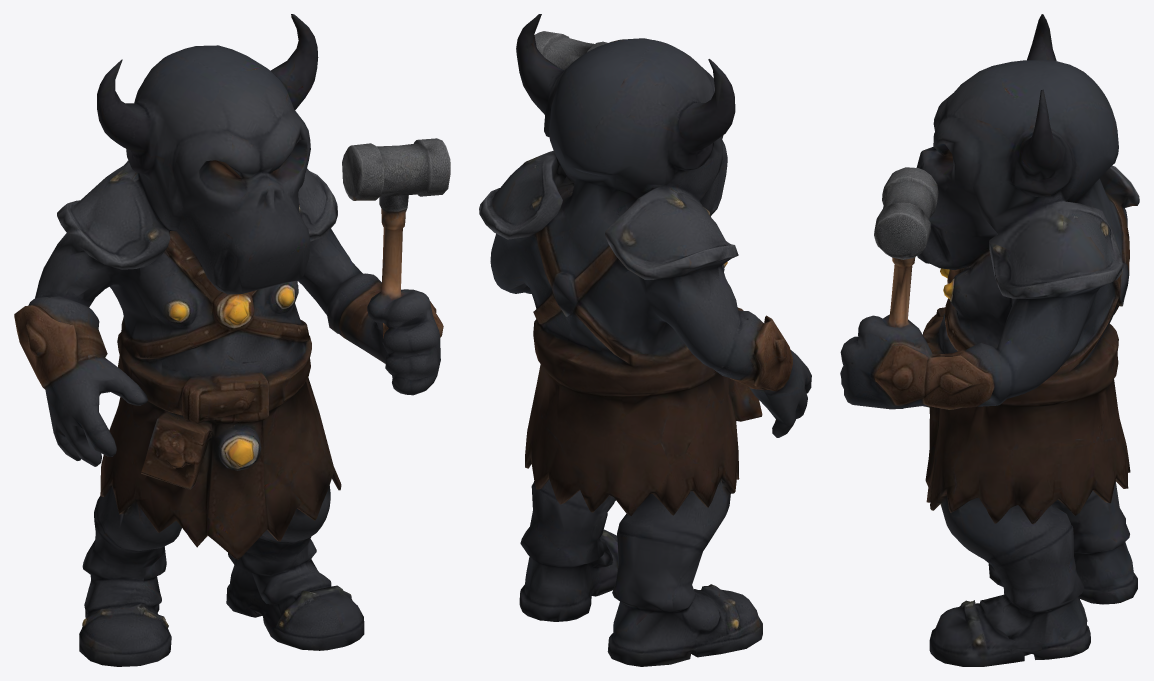
Rendered from gen_smelter.glb.
The picture shows the model from 3 angles, left to right: view 1: azimuth 30°, elevation 25°; view 2: azimuth 150°, elevation 25°; view 3: azimuth 270°, elevation 25°; orthographic projection. The views are drawn at different scales.
Parts seen in each view (by area): view 1: Model; view 2: Model; view 3: Model.
Part boxes in pixels (x1=…): Model: x1=14, y1=14, x2=450, y2=666; Model: x1=479, y1=14, x2=811, y2=666; Model: x1=840, y1=14, x2=1139, y2=666.
Size of the model in its own units: 1.13 by 1.9 by 0.9123.
1 material, 1 textured.
